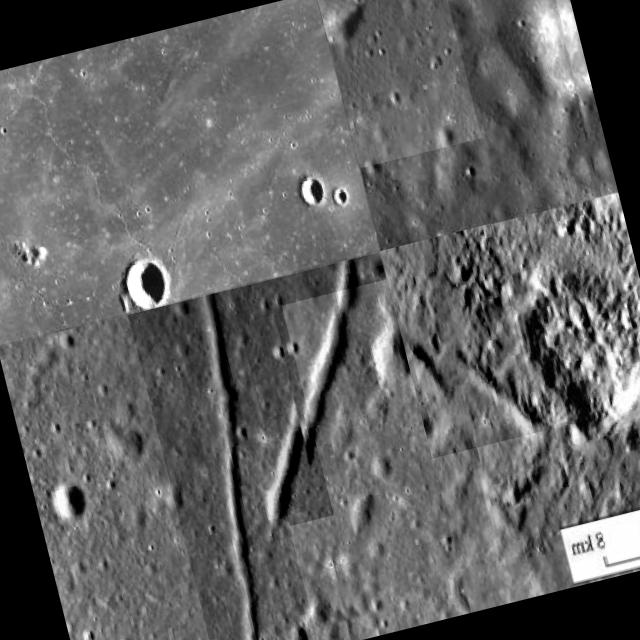rille: (0, 0, 379, 345), (128, 288, 319, 640), (282, 279, 468, 637), (211, 252, 438, 530), (380, 224, 542, 458), (316, 0, 482, 168)
